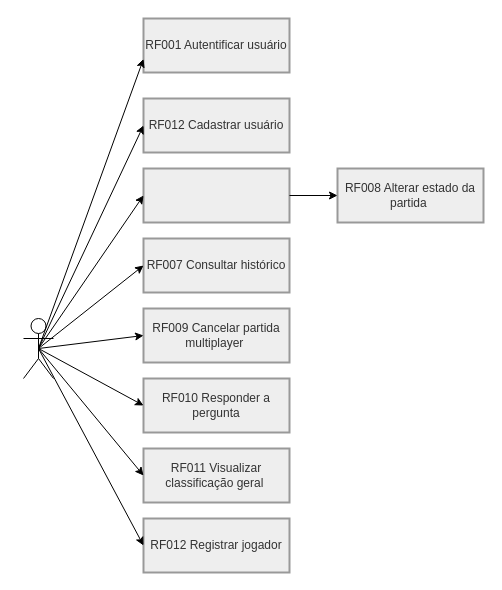
Image size: 502x590. Some labels were removed from this diagram. The box of each missing label's shape, as (x1, y1, x2, y2) in pixels:
Jogador: (22, 318, 54, 378)
RF006 Criar Partida Multiplayer: (142, 167, 290, 223)
